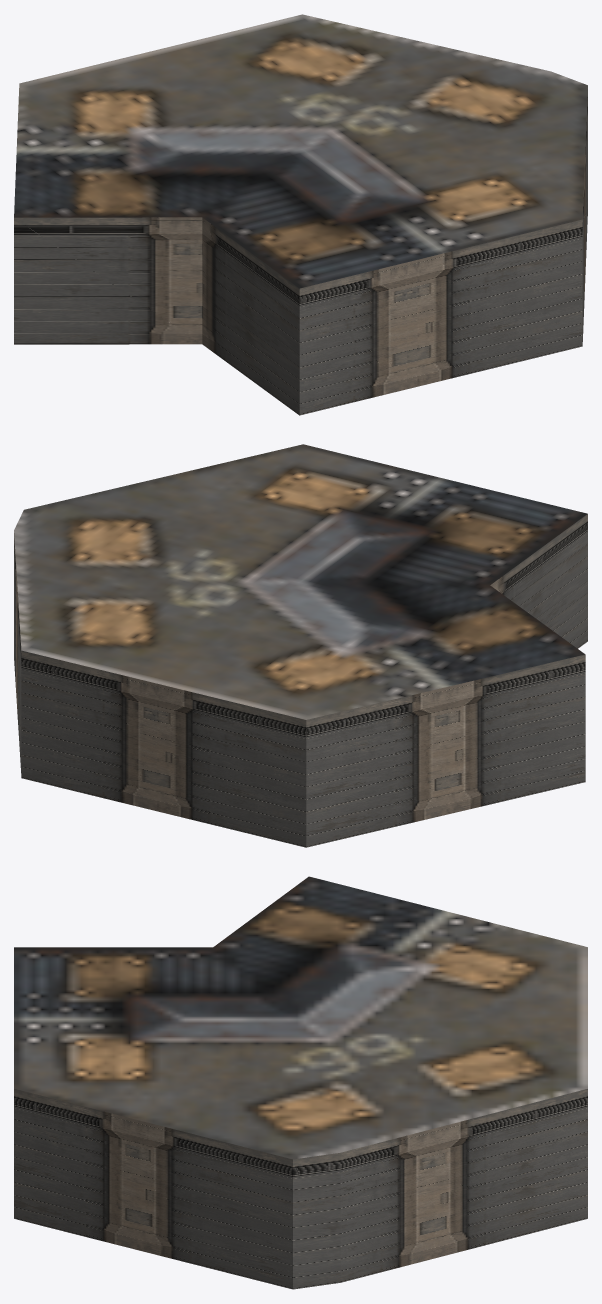
The model's file is hangar_hard_a_66.glb.
The picture shows the model from 3 angles, top to bottom: view 1: azimuth 30°, elevation 25°; view 2: azimuth 150°, elevation 25°; view 3: azimuth 270°, elevation 25°; orthographic projection. The views are drawn at different scales.
Parts seen in each view (by area): view 1: buildings/saxarba/hangar_hard/hangar_hard_a_66; view 2: buildings/saxarba/hangar_hard/hangar_hard_a_66; view 3: buildings/saxarba/hangar_hard/hangar_hard_a_66.
Boxes of the visible parts, x1=… form: buildings/saxarba/hangar_hard/hangar_hard_a_66: x1=14, y1=14, x2=587, y2=415; buildings/saxarba/hangar_hard/hangar_hard_a_66: x1=14, y1=444, x2=587, y2=847; buildings/saxarba/hangar_hard/hangar_hard_a_66: x1=14, y1=876, x2=587, y2=1289.
Size of the model in its own units: 84 by 18 by 72.
